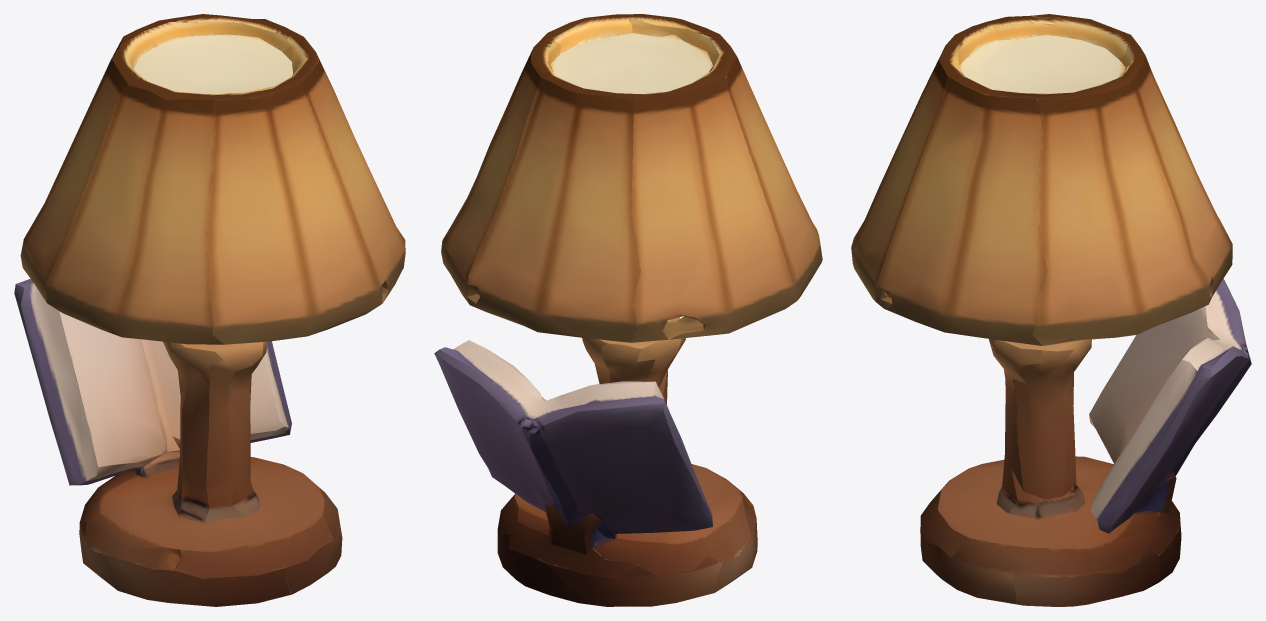
The model's file is lamp.glb.
The picture shows the model from 3 angles, left to right: view 1: azimuth 30°, elevation 25°; view 2: azimuth 150°, elevation 25°; view 3: azimuth 270°, elevation 25°; orthographic projection.
Parts seen in each view (by area): view 1: geometry_0; view 2: geometry_0; view 3: geometry_0.
Boxes of the visible parts, <box> form: geometry_0: <box>14,14,405,606</box>; geometry_0: <box>434,14,822,606</box>; geometry_0: <box>851,14,1251,606</box>.
Bounding box in the file's own units: 0.6925 × 1 × 0.7271.
Materials: 1 (1 with a texture image).
